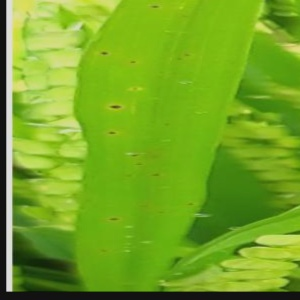Bacterial_Leaf_Blight: (125, 81, 145, 95), (95, 245, 113, 260), (105, 100, 125, 113), (146, 0, 165, 12), (104, 126, 121, 138), (124, 56, 140, 68), (149, 168, 164, 180), (121, 170, 136, 182), (96, 47, 112, 58), (128, 149, 142, 161), (106, 213, 121, 224), (184, 197, 196, 210), (136, 201, 150, 212), (160, 119, 173, 130), (134, 157, 145, 169), (155, 208, 166, 218), (172, 55, 185, 63), (180, 11, 190, 21), (182, 51, 193, 60), (155, 73, 167, 81), (157, 68, 165, 75)
